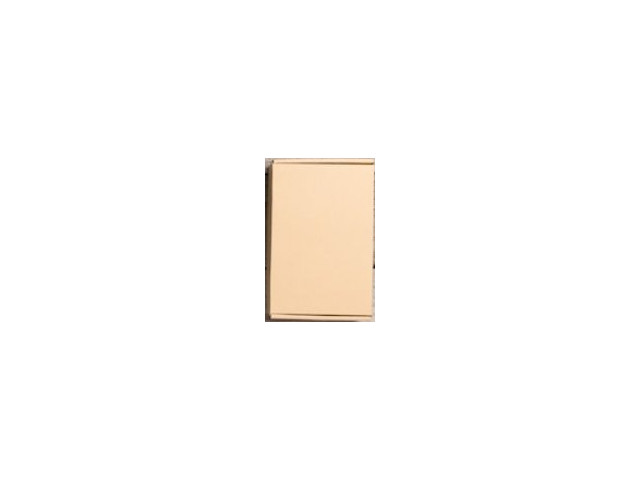cardboard: (265, 161, 372, 319)
